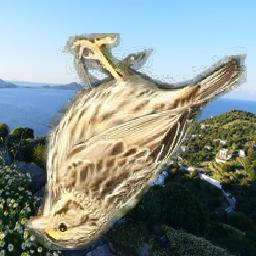Sparrow: (25, 34, 247, 251)
